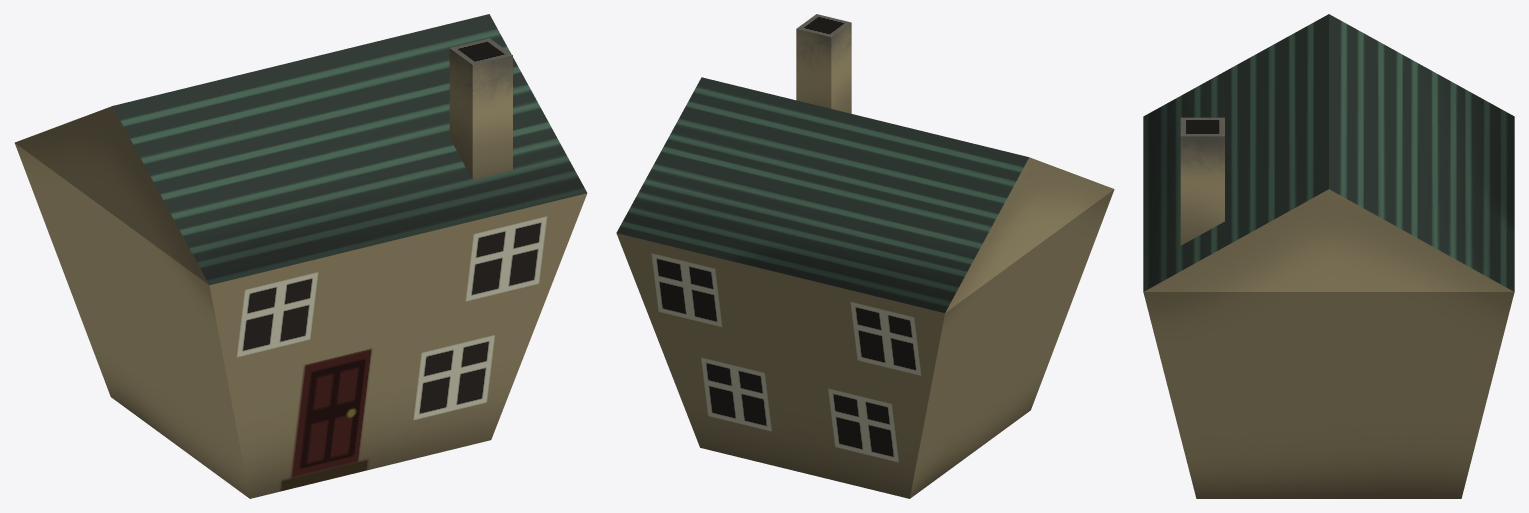
The model's file is House_Building_Object.fbx.
The picture shows the model from 3 angles, left to right: view 1: azimuth 30°, elevation 25°; view 2: azimuth 150°, elevation 25°; view 3: azimuth 270°, elevation 25°; orthographic projection. The views are drawn at different scales.
Visible parts, largest first — view 1: HouseBuilding_Object; view 2: HouseBuilding_Object; view 3: HouseBuilding_Object.
Boxes of the visible parts, x1=… form: HouseBuilding_Object: x1=14, y1=14, x2=587, y2=498; HouseBuilding_Object: x1=616, y1=14, x2=1114, y2=498; HouseBuilding_Object: x1=1143, y1=14, x2=1514, y2=498.
Bounding box in the file's own units: 4.7 × 4.61 × 4.2.
1 material, 1 textured.
